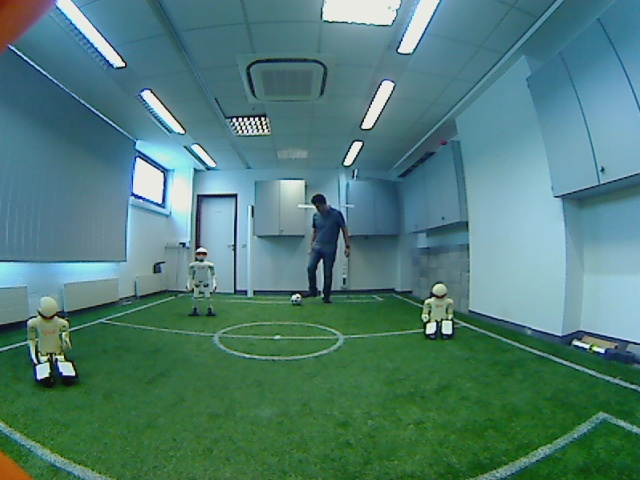ball: (287, 289, 309, 309)
robot: (19, 291, 88, 387), (413, 281, 461, 347), (185, 240, 222, 325)
